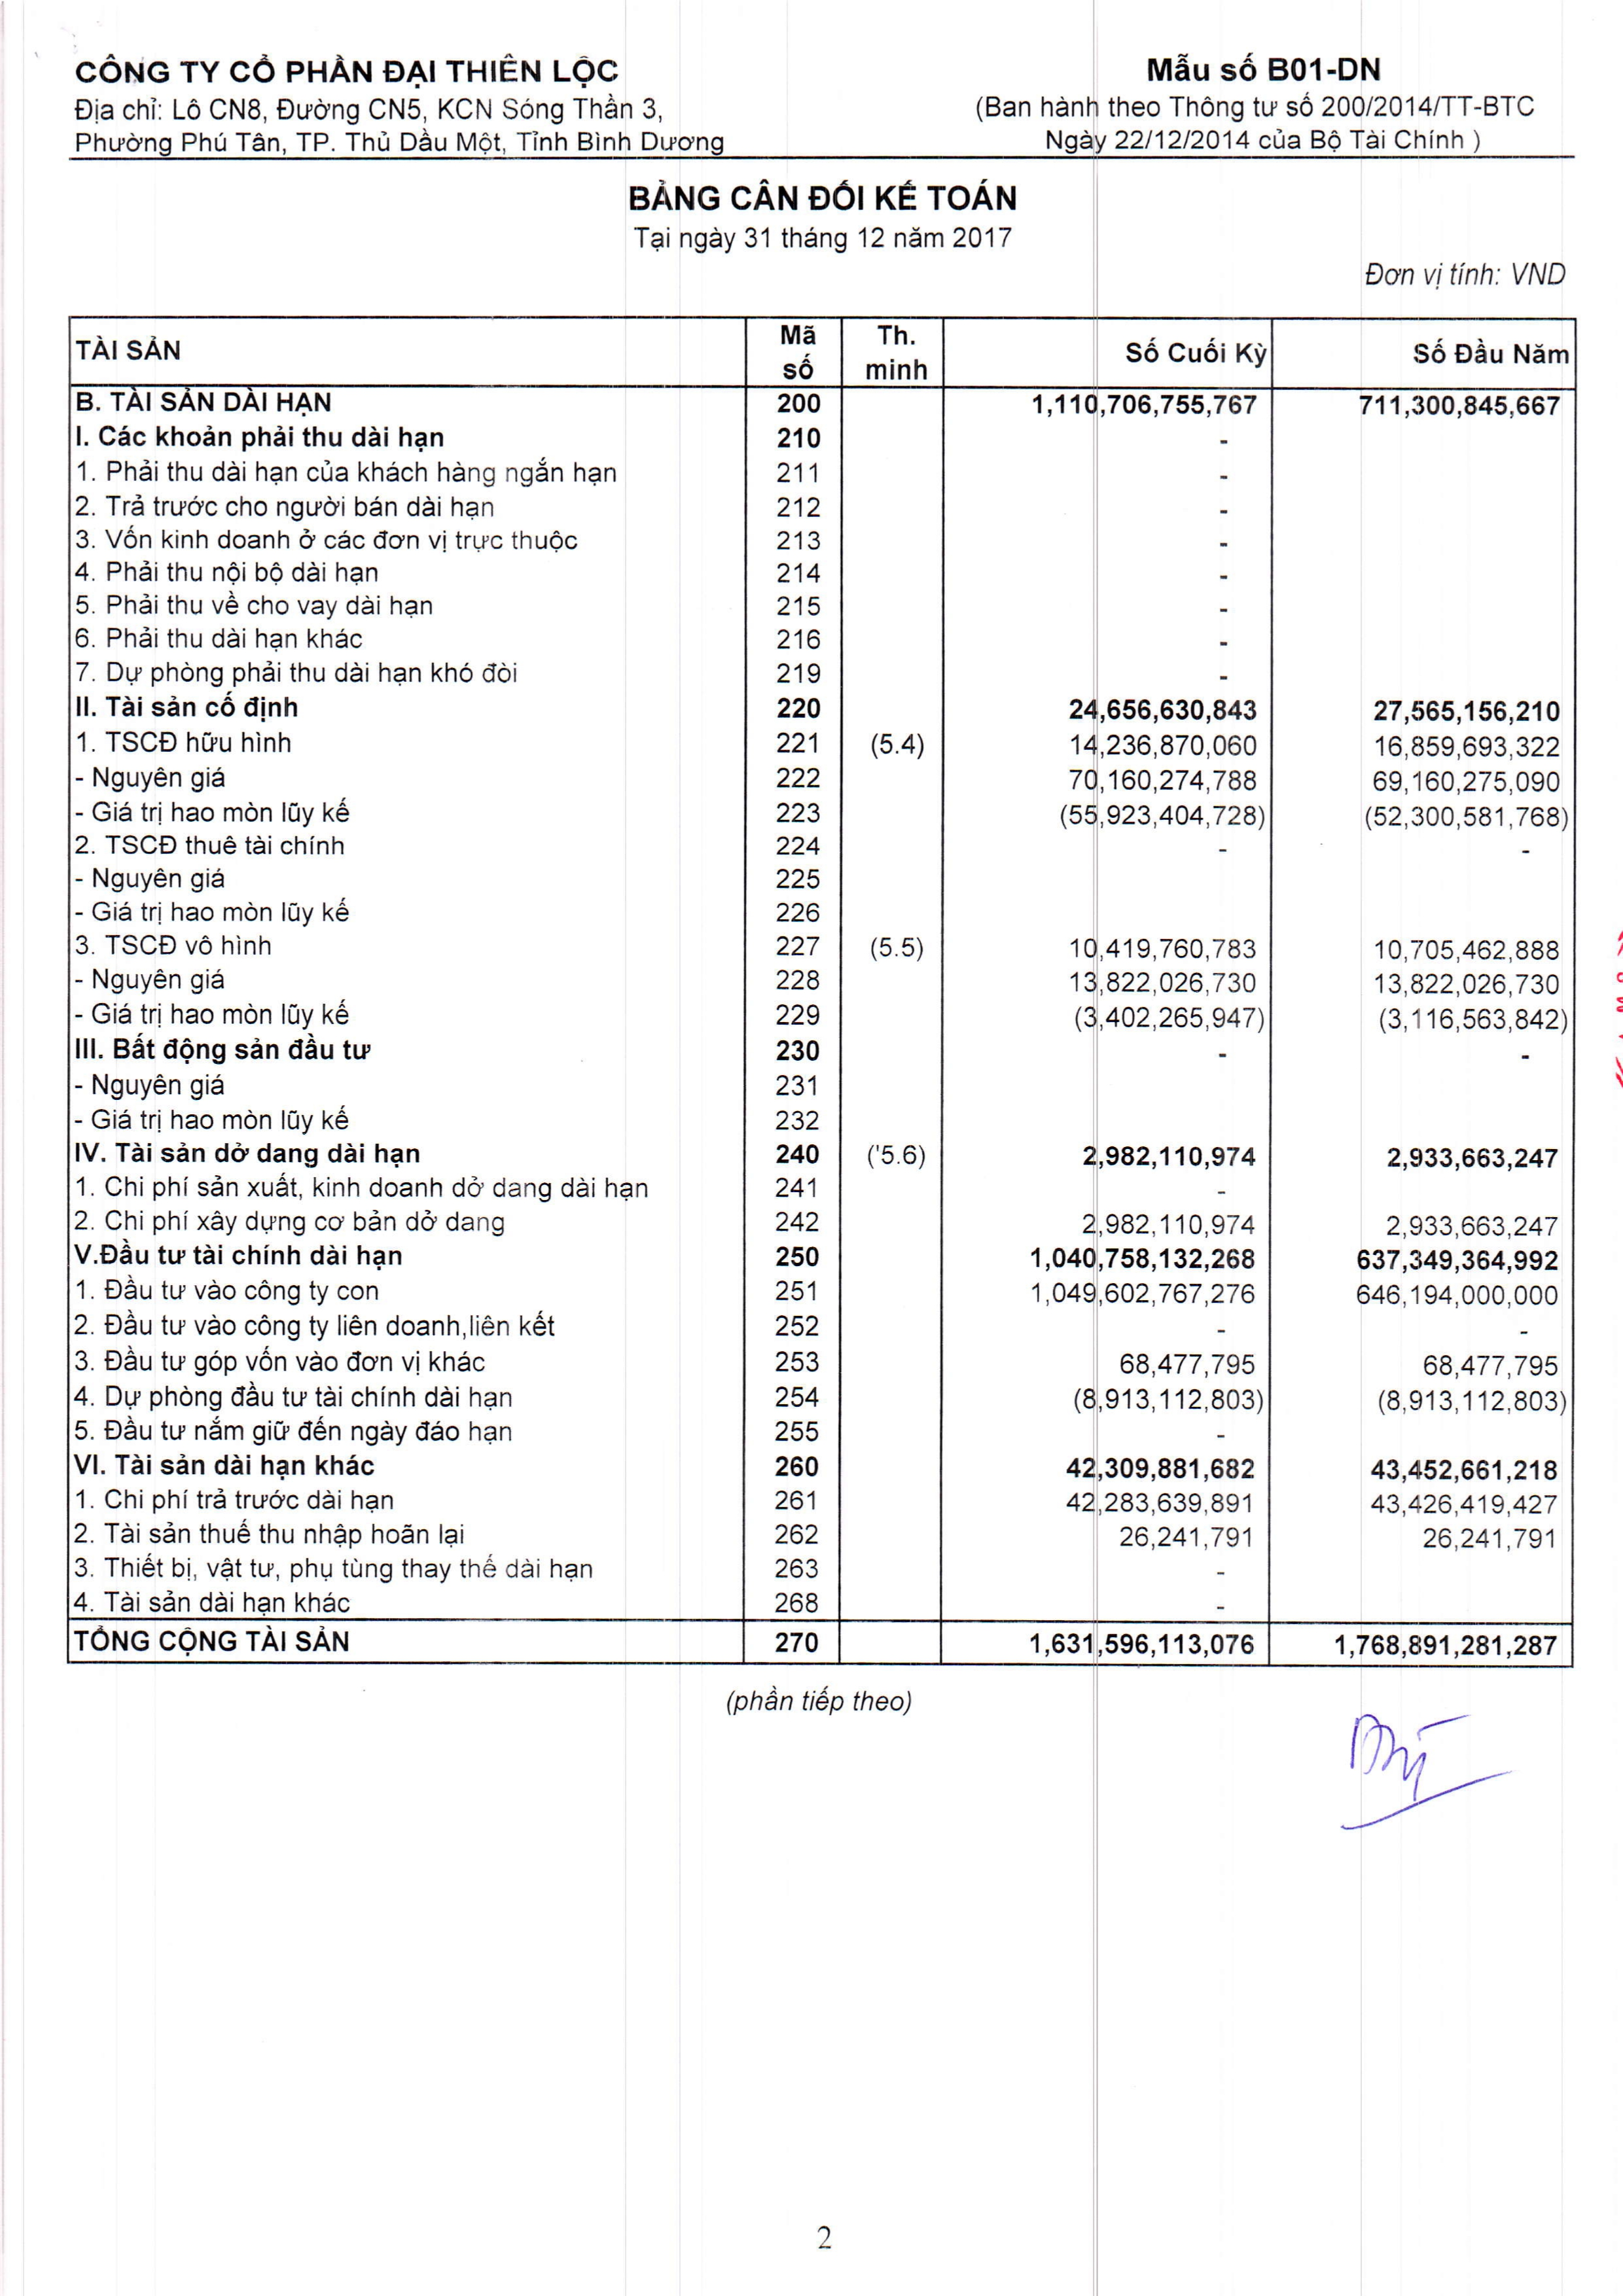table: (53, 302, 1591, 1683)
table column: (69, 302, 660, 1683), (1012, 300, 1277, 1683), (1316, 300, 1579, 1683), (850, 300, 934, 1683), (759, 300, 840, 1683)
table column header: (53, 312, 1591, 393)
table row: (54, 323, 1591, 383), (54, 725, 1591, 762), (54, 1622, 1591, 1659), (54, 929, 1591, 964), (54, 1030, 1591, 1065), (54, 1273, 1591, 1308), (54, 386, 1591, 420), (54, 421, 1591, 455), (54, 690, 1591, 723), (54, 1069, 1591, 1102), (54, 1238, 1591, 1271), (54, 1308, 1591, 1341), (54, 1345, 1591, 1378), (54, 1380, 1591, 1413), (54, 1415, 1591, 1448), (54, 1448, 1591, 1482), (54, 1517, 1591, 1550), (54, 555, 1591, 586), (54, 588, 1591, 620), (54, 621, 1591, 653), (54, 657, 1591, 688), (54, 797, 1591, 829), (54, 829, 1591, 860), (54, 964, 1591, 995), (54, 999, 1591, 1030), (54, 1483, 1591, 1515), (54, 456, 1591, 486), (54, 491, 1591, 521), (54, 523, 1591, 553), (54, 764, 1591, 793), (54, 864, 1591, 893), (54, 897, 1591, 927), (54, 1106, 1591, 1136), (54, 1137, 1591, 1167), (54, 1171, 1591, 1201), (54, 1206, 1591, 1236), (54, 1552, 1591, 1582), (54, 1587, 1591, 1617)
